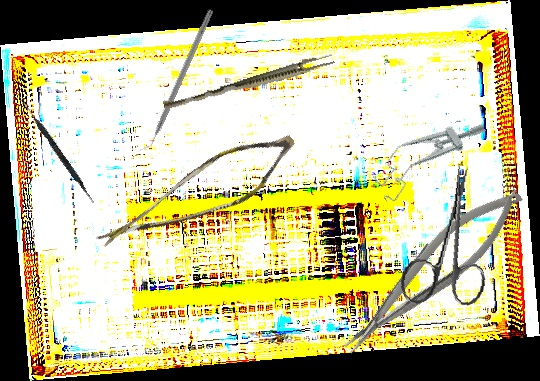Chopper: (136, 5, 214, 157)
Iris Scissors: (398, 157, 503, 314)
Micro Scissor: (92, 102, 305, 292)
Needle Holder: (327, 177, 536, 363)
Spatula Surgical: (17, 97, 98, 204)
Speculum: (364, 101, 492, 206)
Tissue Forceps: (162, 49, 336, 117)
